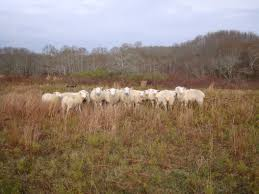sheep: (176, 85, 205, 109), (63, 90, 88, 116), (39, 91, 62, 116), (152, 88, 175, 111), (90, 85, 105, 110), (121, 84, 136, 107), (107, 85, 119, 106), (144, 88, 153, 104), (137, 88, 144, 103)
